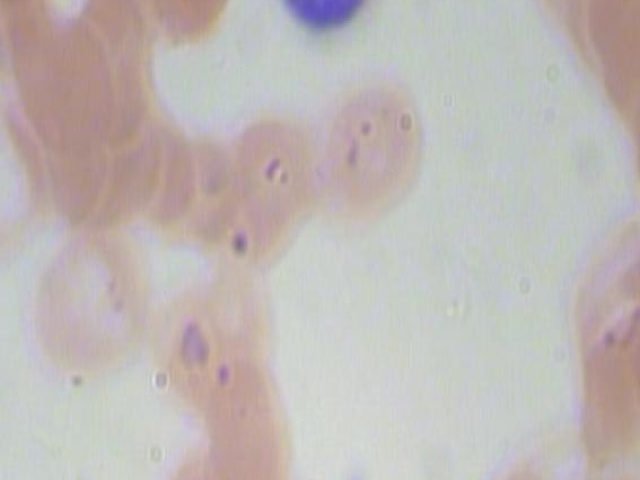RBC: (150, 259, 275, 422), (308, 69, 433, 231), (208, 97, 333, 259), (31, 215, 156, 377), (0, 0, 124, 154), (185, 343, 310, 480), (0, 94, 52, 256), (125, 0, 250, 51), (144, 452, 269, 480)
WBC: (254, 0, 405, 33)
